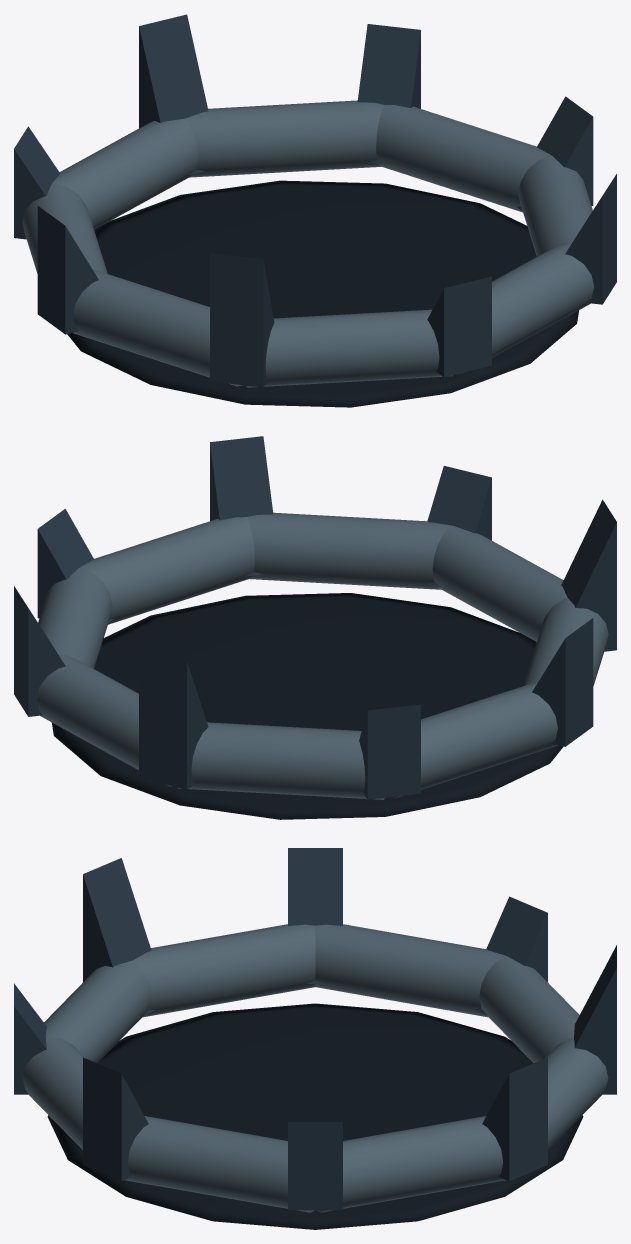
File: CMU3DHiveXenoTunnel.glb
3 views of the same model, one above another, from view 1: azimuth 30°, elevation 25°; view 2: azimuth 150°, elevation 25°; view 3: azimuth 270°, elevation 25° (orthographic).
Visible parts, largest first — view 1: continuous fleshy rim (×8), recessed dark entrance, jagged tunnel lip (×8); view 2: continuous fleshy rim (×8), recessed dark entrance, jagged tunnel lip (×8); view 3: continuous fleshy rim (×8), recessed dark entrance, jagged tunnel lip (×8).
Boxes of the visible parts, <box> form: continuous fleshy rim (×8): <box>22,100,593,387</box>; recessed dark entrance: <box>67,180,578,407</box>; jagged tunnel lip (×8): <box>14,14,616,387</box>; continuous fleshy rim (×8): <box>36,512,608,799</box>; recessed dark entrance: <box>51,593,563,819</box>; jagged tunnel lip (×8): <box>14,436,616,799</box>; continuous fleshy rim (×8): <box>22,924,608,1212</box>; recessed dark entrance: <box>47,1003,583,1229</box>; jagged tunnel lip (×8): <box>14,848,616,1210</box>.
Size of the model in its own units: 0.99 by 0.31 by 0.99.
